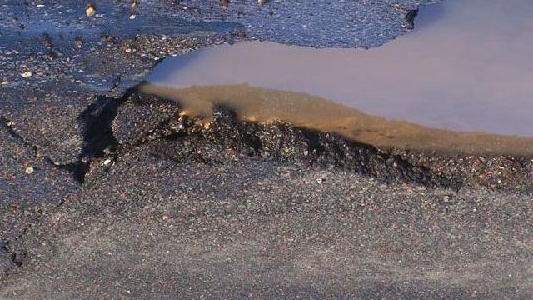pothole: (65, 0, 533, 200)
